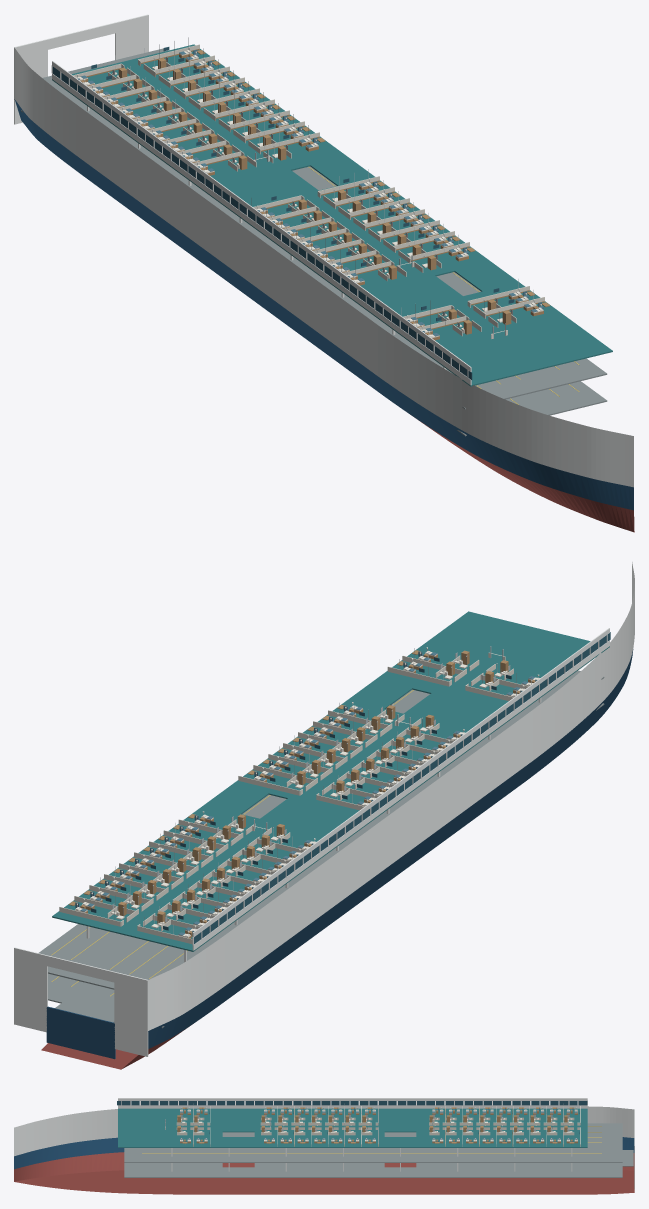
The model's file is ship-cabins.glb.
3 views of the same model, one above another, from view 1: azimuth 30°, elevation 25°; view 2: azimuth 150°, elevation 25°; view 3: azimuth 270°, elevation 25° (orthographic). The views are drawn at different scales.
Parts seen in each view (by area): view 1: Hull / Porcelain paint, Cabins D3 / Carpet teal, Hull / Hull navy, Vehicle D2 / Deck gray, Cabins shell / Porcelain paint, Cabins shell / Window glass, Hull / Antifouling, Vehicle D1 / Deck gray; view 2: Hull / Porcelain paint, Cabins D3 / Carpet teal, Hull / Hull navy, Vehicle D2 / Deck gray, Cabins shell / Porcelain paint, Cabins shell / Window glass, Vehicle D1 / Deck gray, Hull / Antifouling; view 3: Cabins D3 / Carpet teal, Hull / Antifouling, Vehicle D2 / Deck gray, Vehicle D1 / Deck gray, Hull / Porcelain paint, Cabins shell / Porcelain paint, Cabins shell / Window glass, Hull / Hull navy, Vehicle D2 / Yellow marking.
Boxes of the visible parts, left/top/right/bottom form: Hull / Porcelain paint: left=14, top=14, right=633, bottom=487; Cabins D3 / Carpet teal: left=52, top=44, right=612, bottom=386; Hull / Hull navy: left=14, top=99, right=633, bottom=510; Vehicle D2 / Deck gray: left=42, top=48, right=607, bottom=409; Cabins shell / Porcelain paint: left=51, top=61, right=471, bottom=385; Cabins shell / Window glass: left=52, top=66, right=472, bottom=379; Hull / Antifouling: left=414, top=417, right=634, bottom=532; Vehicle D1 / Deck gray: left=21, top=110, right=607, bottom=436; Hull / Porcelain paint: left=14, top=562, right=634, bottom=1056; Cabins D3 / Carpet teal: left=52, top=611, right=609, bottom=951; Hull / Hull navy: left=46, top=649, right=633, bottom=1059; Vehicle D2 / Deck gray: left=38, top=670, right=604, bottom=989; Cabins shell / Porcelain paint: left=192, top=628, right=609, bottom=950; Cabins shell / Window glass: left=194, top=632, right=610, bottom=944; Vehicle D1 / Deck gray: left=48, top=703, right=604, bottom=1028; Hull / Antifouling: left=41, top=1026, right=189, bottom=1069; Cabins D3 / Carpet teal: left=118, top=1108, right=587, bottom=1147; Hull / Antifouling: left=14, top=1152, right=634, bottom=1194; Vehicle D2 / Deck gray: left=124, top=1123, right=622, bottom=1162; Vehicle D1 / Deck gray: left=124, top=1148, right=633, bottom=1177; Hull / Porcelain paint: left=14, top=1106, right=634, bottom=1189; Cabins shell / Porcelain paint: left=118, top=1098, right=587, bottom=1108; Cabins shell / Window glass: left=117, top=1101, right=587, bottom=1105; Hull / Hull navy: left=14, top=1137, right=634, bottom=1169; Vehicle D2 / Yellow marking: left=142, top=1126, right=601, bottom=1153.
Bounding box in the file's own units: 30.6 × 22.3 × 196.
